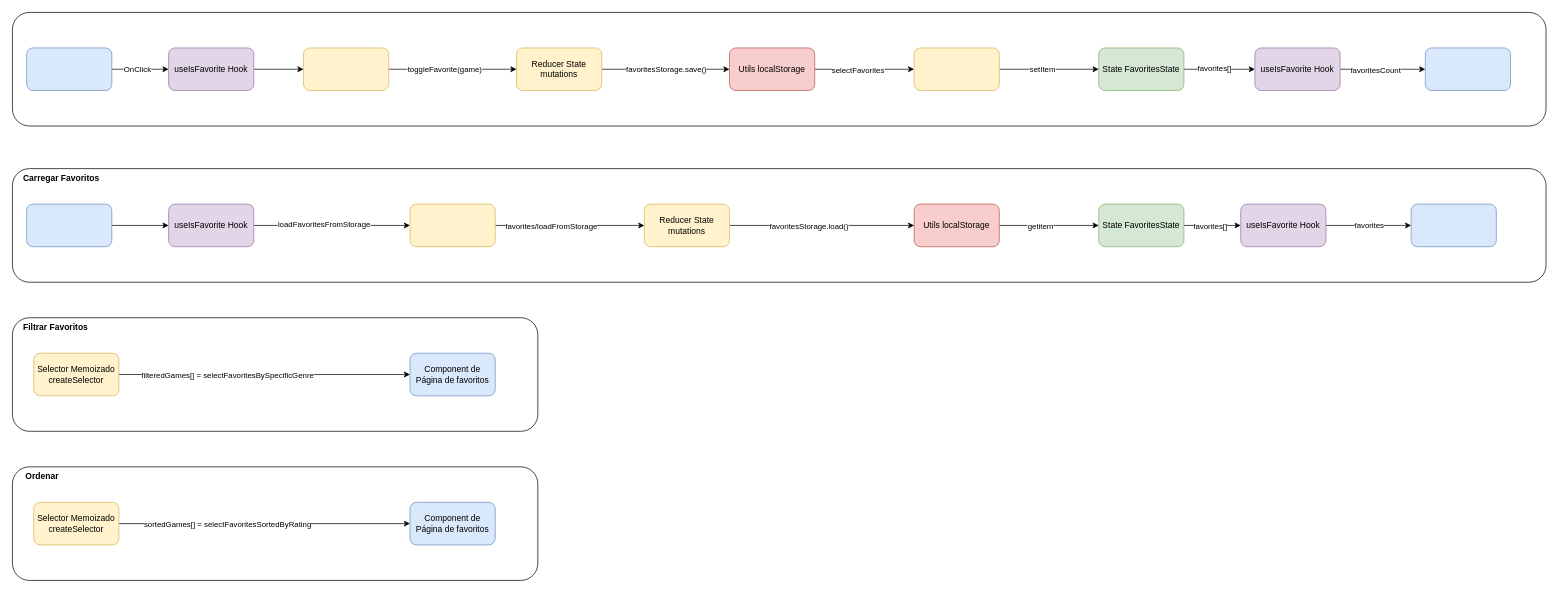
This 1558x593 diagram has some shape labels left out. The box of each missing label's shape, as (x1, y1, x2, y2) in pixels:
Actions createAction: (303, 47, 389, 91)
App: (26, 203, 112, 247)
Async thunks createAsyncThunk: (409, 203, 495, 247)
Card Component - FavoriteButton: (26, 47, 112, 91)
Component header: (1425, 47, 1511, 91)
Component tela de favoritos: (1410, 203, 1496, 247)
Favoritar um jogo: (12, 12, 1546, 126)
Selectors createSelector: (913, 47, 999, 91)
